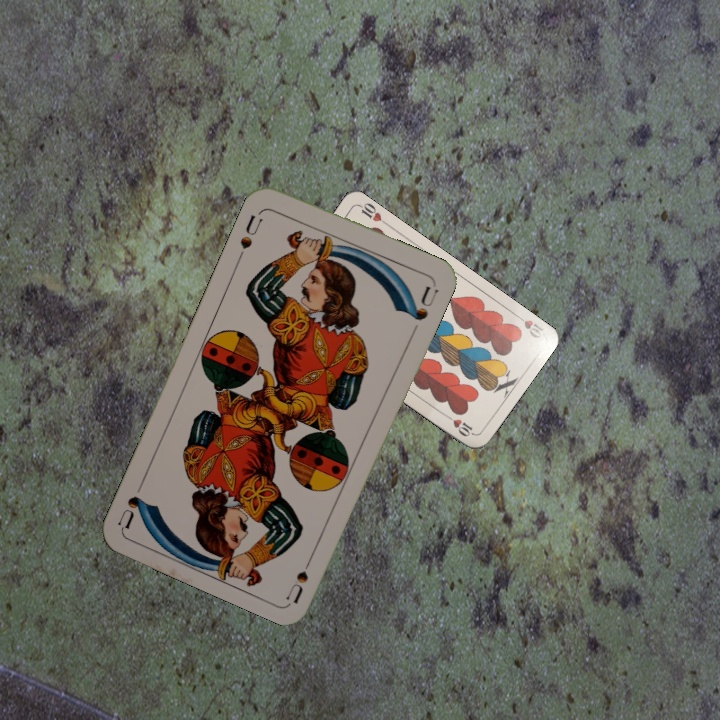H10: (510, 309, 546, 341)
SU: (282, 546, 318, 604), (234, 210, 265, 262)
